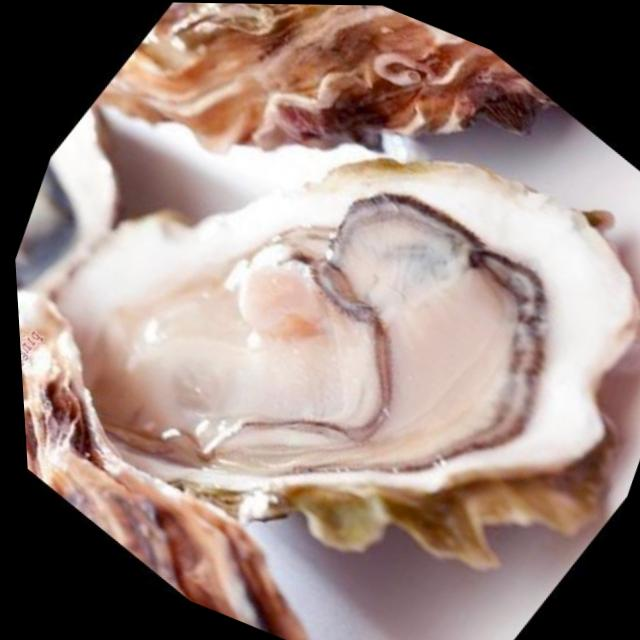Oyster-Closed: (17, 279, 400, 640), (85, 1, 579, 272)
Oyster-Open: (2, 28, 640, 640)
